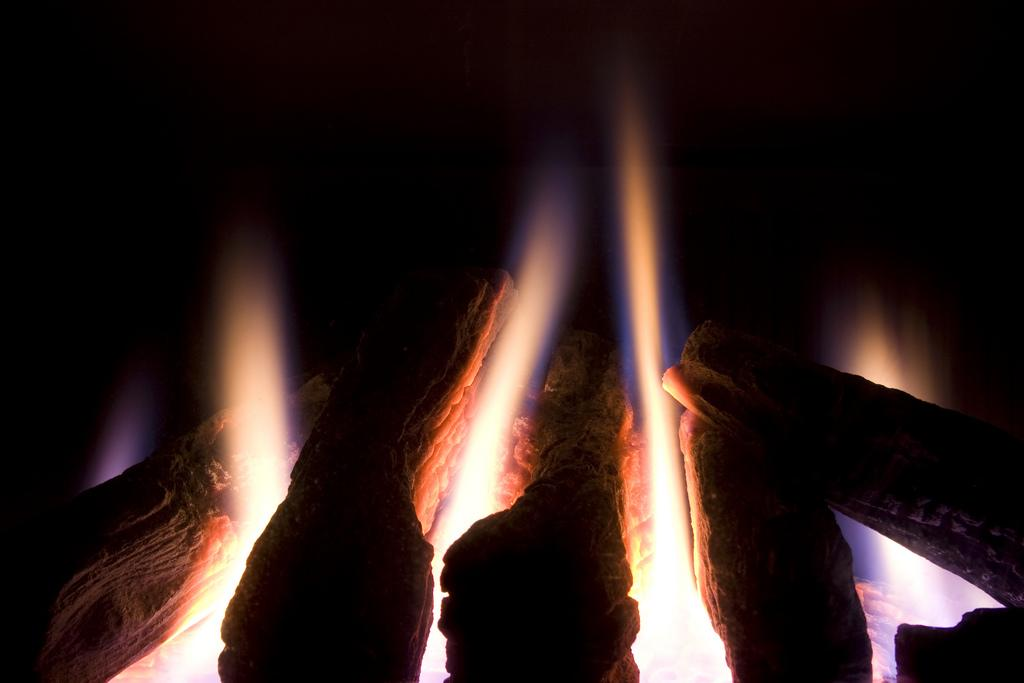fire: (213, 282, 292, 478), (645, 433, 698, 675), (632, 203, 668, 410), (873, 548, 952, 630), (460, 395, 503, 498), (177, 598, 225, 683), (520, 278, 555, 377)
